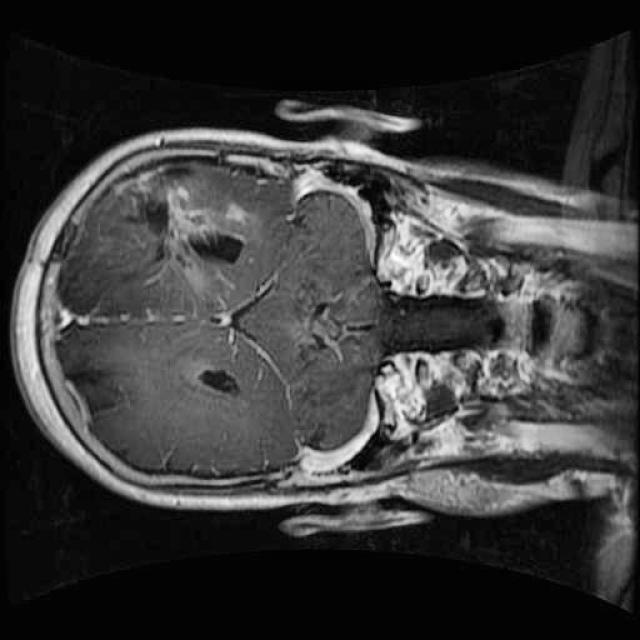Tumor: (101, 155, 256, 316)
